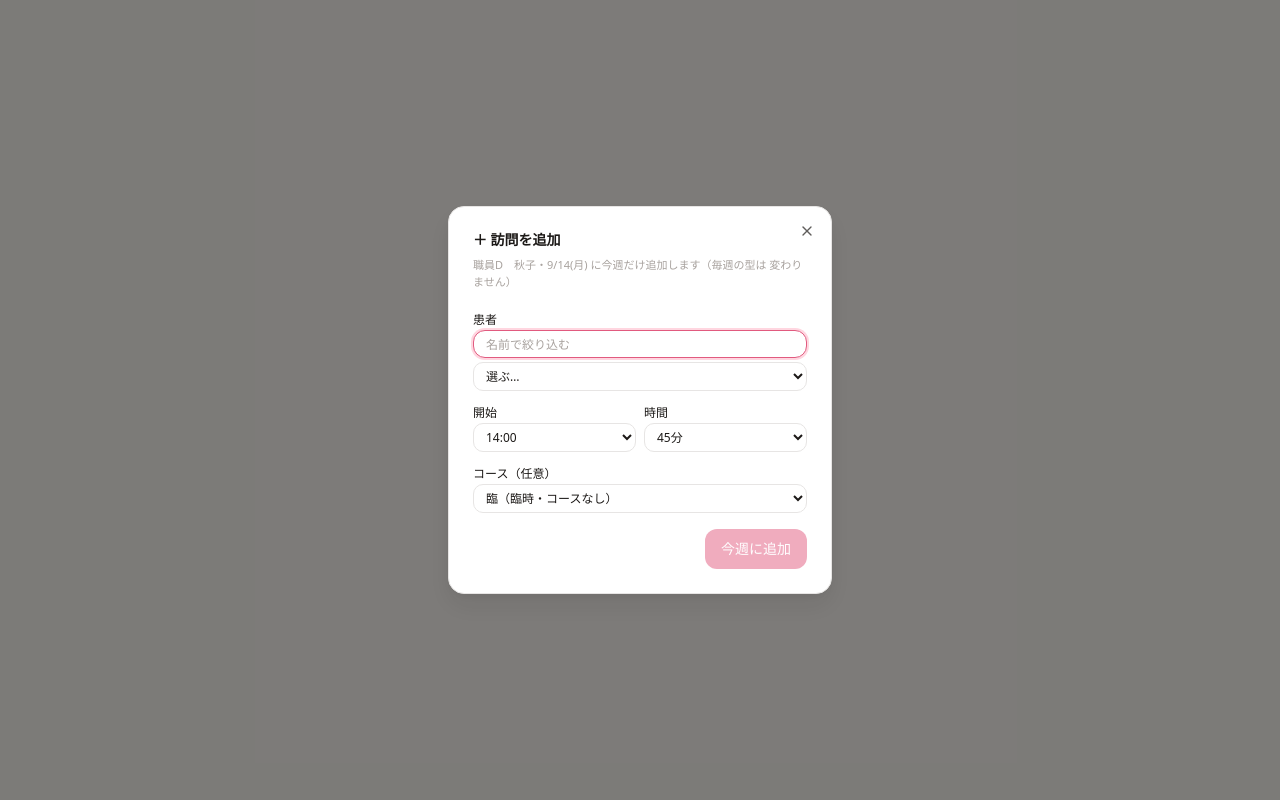
Test: AddVisitDialog — 所要時間 (PO 決定 12) › ② 患者を選ぶと所要時間がその患者の基本時間 (35 分) になる
Expected: the dropdown with test id "add-visit-minutes" shows "45分", [644, 423, 807, 452]
Select "利用者I 花子（月/木 午前）" in the dropdown with test id "add-visit-patient" at (640, 376), box [473, 362, 807, 391]
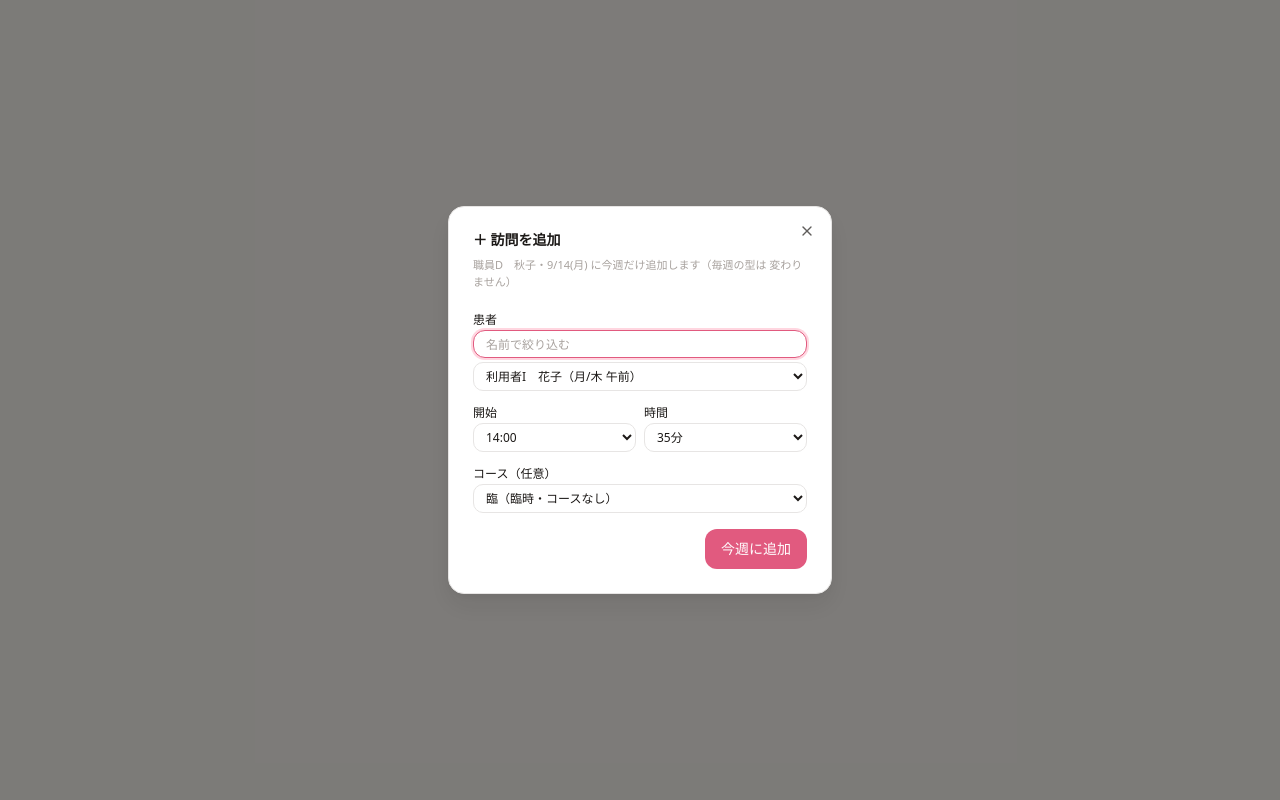
Expected: the dropdown with test id "add-visit-minutes" shows "35分", [644, 423, 807, 452]
